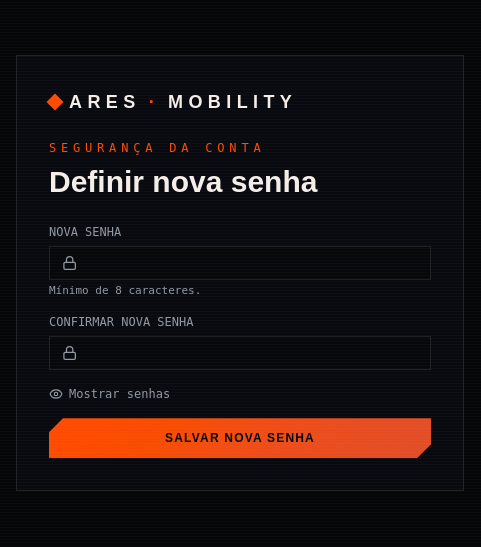
Test case: tela /redefinir-senha › não navega quando o servidor recusa a nova senha
The image size is (481, 547).
Type "12345678" into the password field labelled "NOVA SENHA". click: [248, 263]
box: [77,247,418,279]
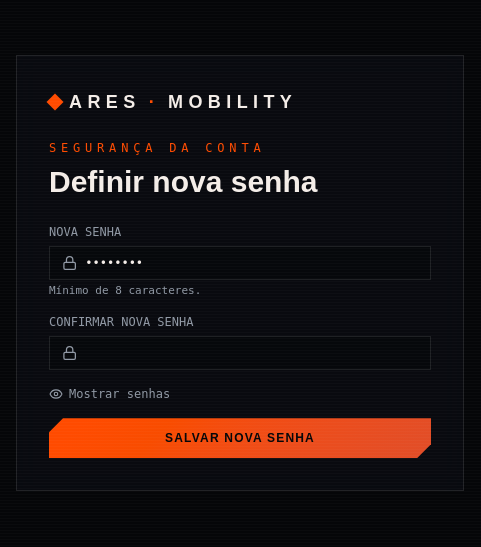
Type "12345678" into the password field labelled "CONFIRMAR NOVA SENHA". click: [248, 353]
box: [77,337,418,369]
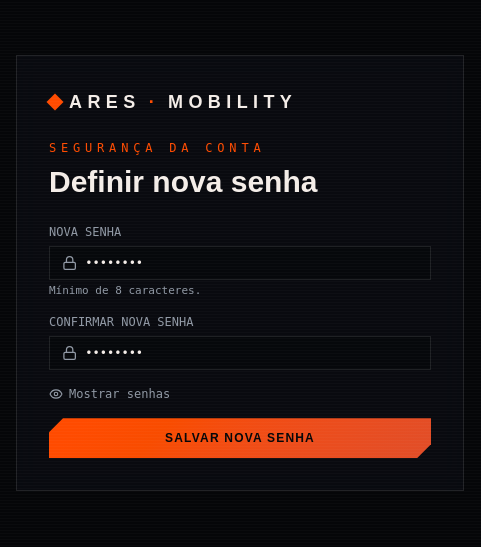
Click the button "Salvar nova senha". click: [240, 438]
box: [49,418,431,458]
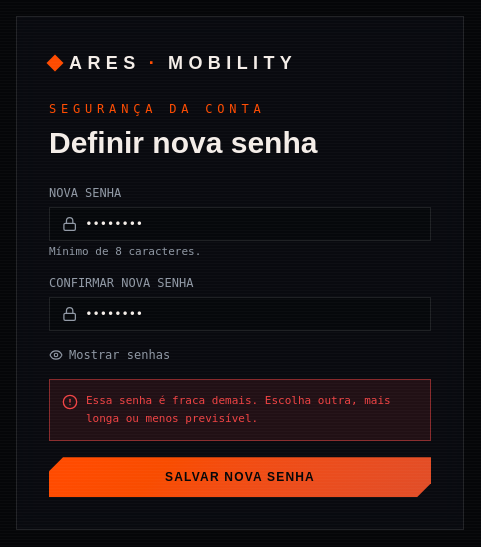
Now the message shows "fraca demais", box [86,394,391,425]
